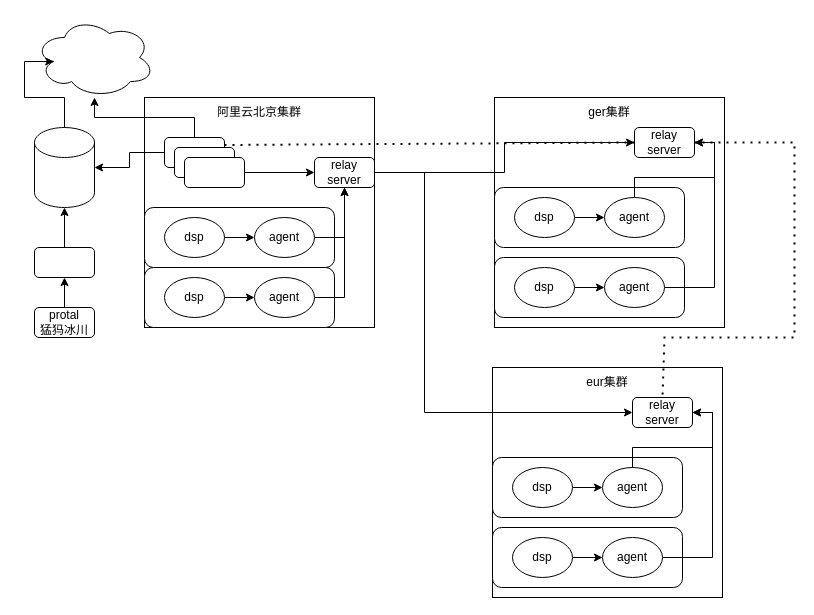
Some shapes in this 814 by 615 pixel diagram are drawn without their labels. The shapes that lost their labels are listed below. From the top down, each one's centre as x and y in pixels, then its label:
At (94,57): "kafka".
At (64,167): "db".
At (214,172): "reader server".
At (64,262): "web server".
